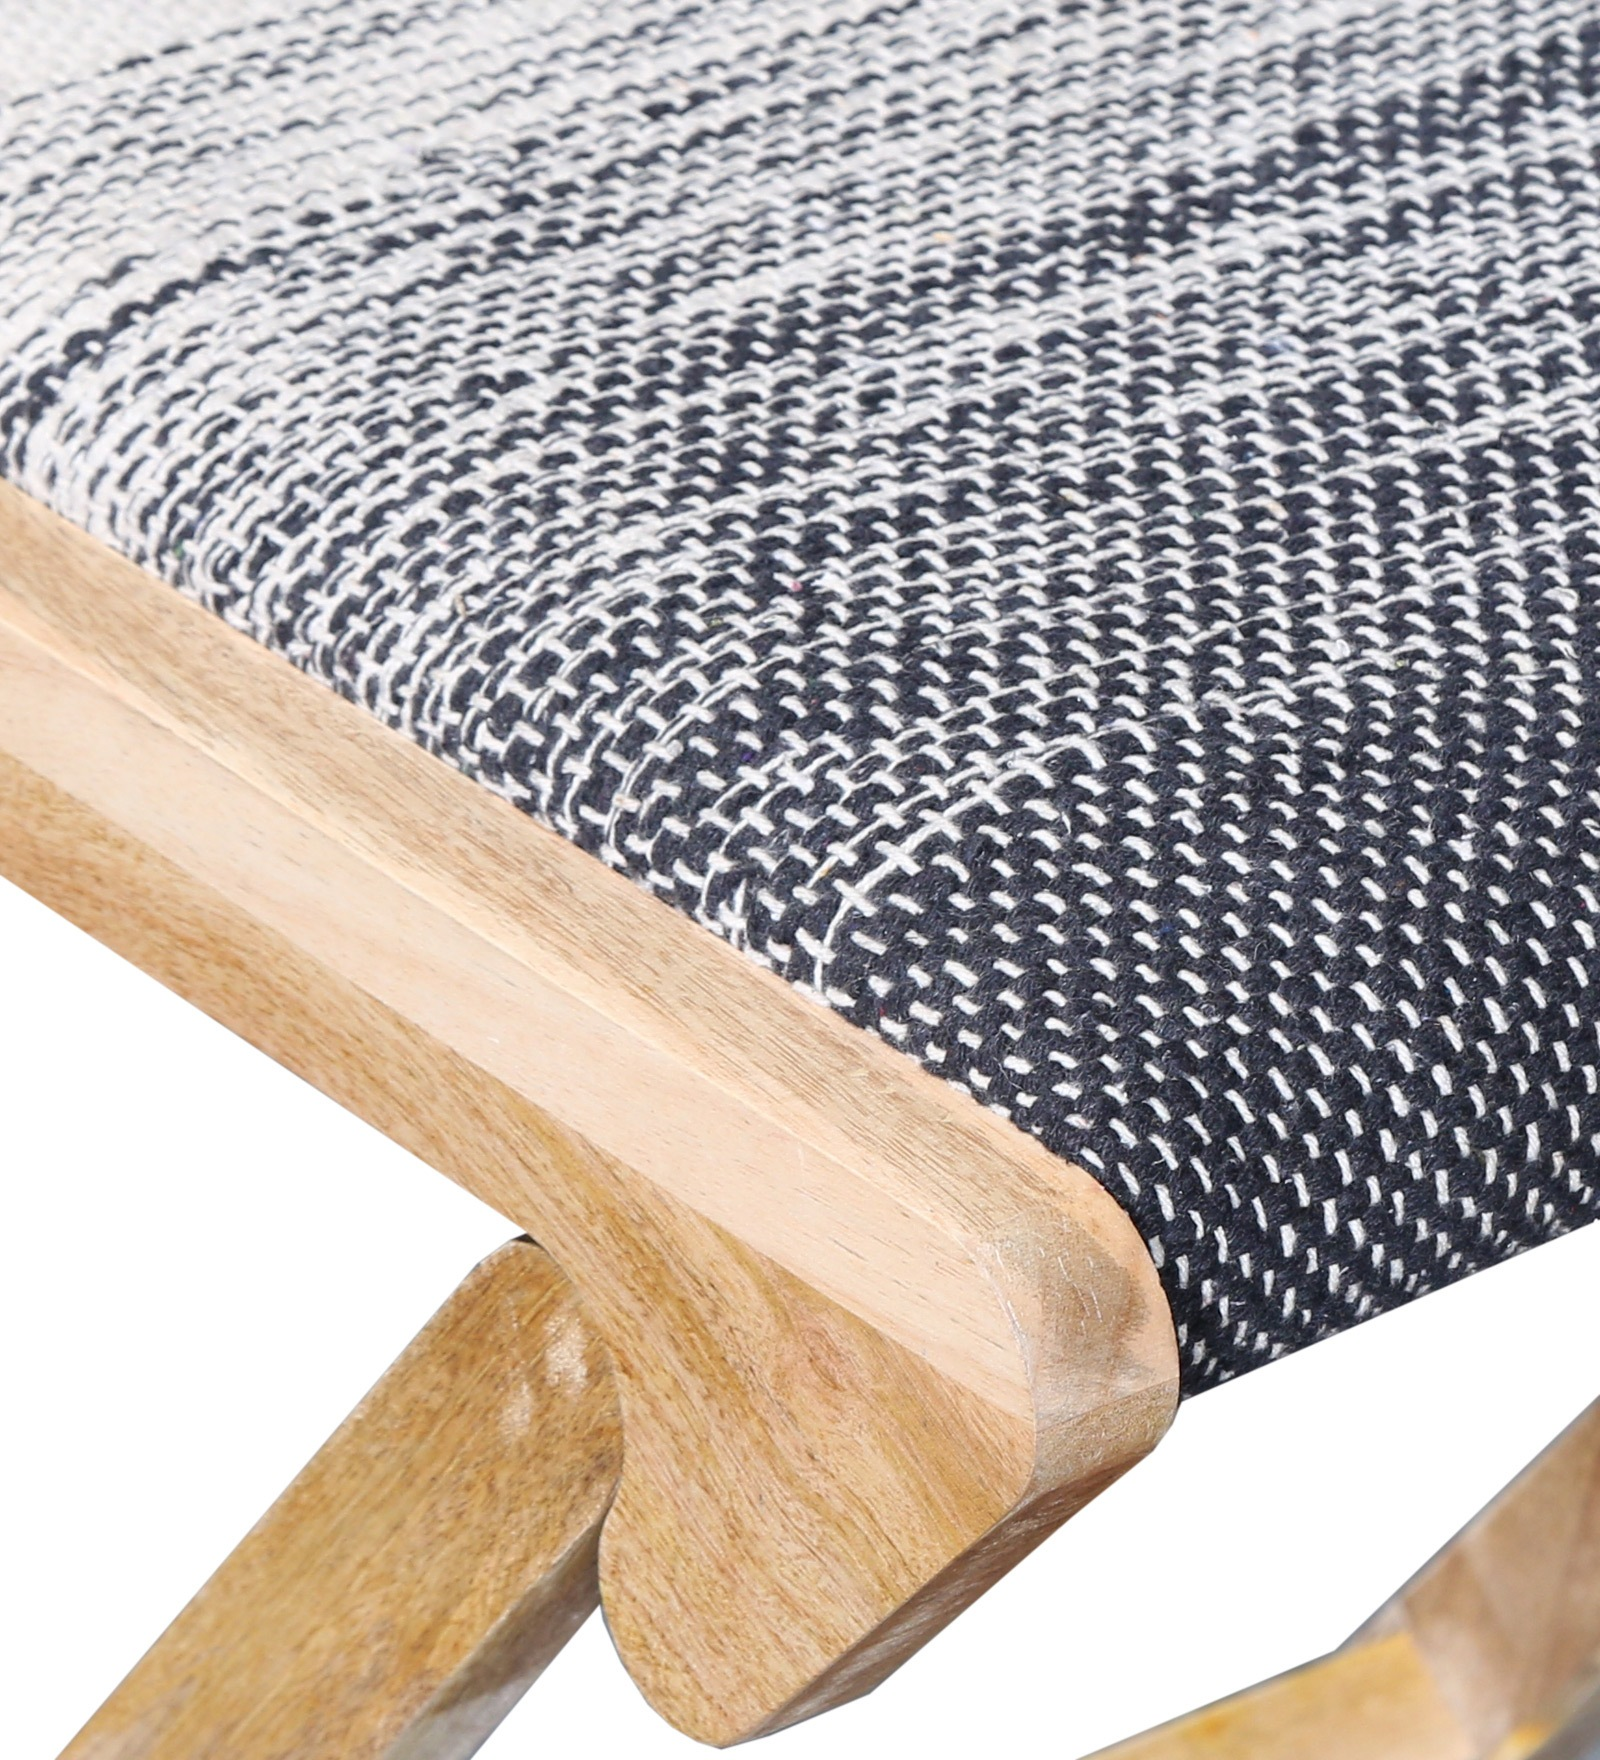Horan Folding Chair by Bohemiana: (12, 8, 1600, 1758)
